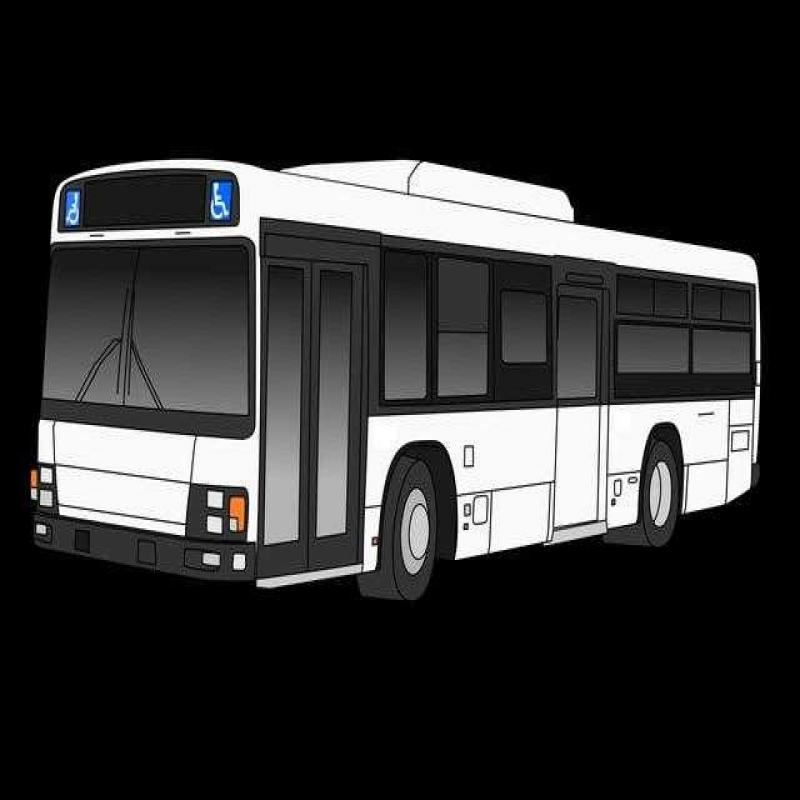bus: (30, 131, 769, 594)
